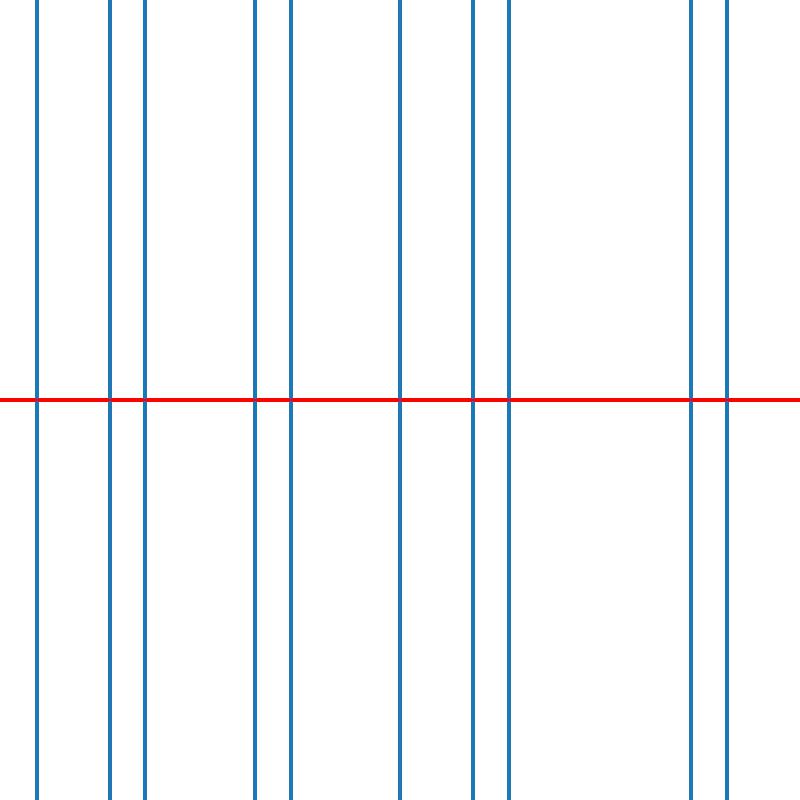root: (32, 396, 40, 404), (250, 396, 258, 404), (141, 396, 149, 404), (505, 396, 512, 404), (687, 396, 694, 404), (723, 396, 730, 404), (469, 396, 476, 404), (105, 396, 112, 404), (396, 396, 403, 404), (287, 396, 294, 404)
